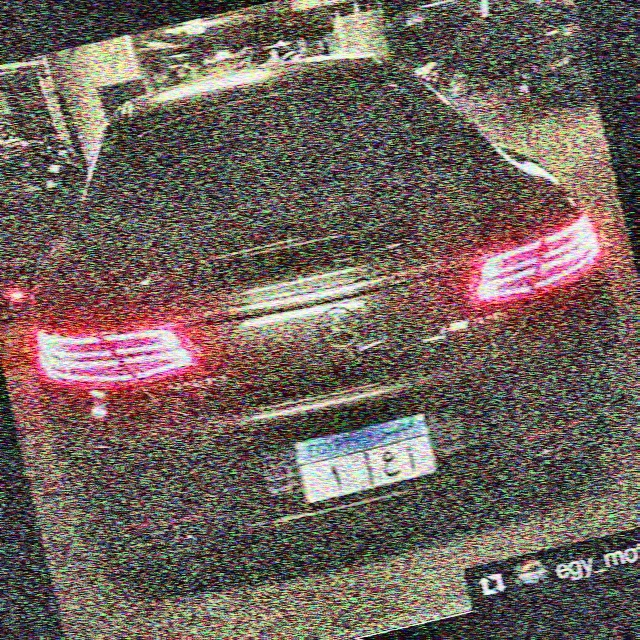License Plate: (285, 407, 445, 510)
